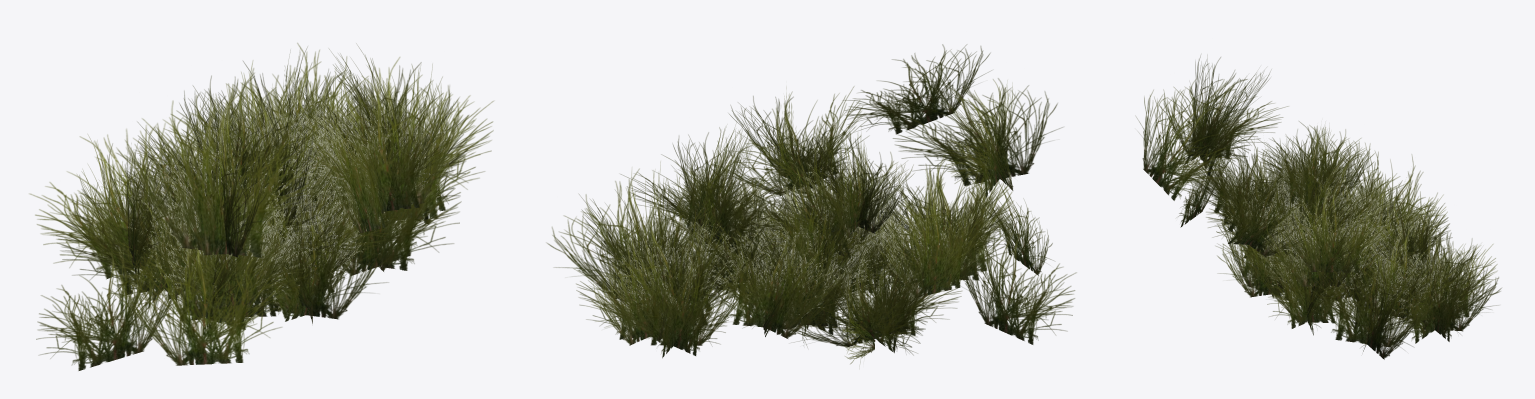
Rendered from Tufts_Green.glb.
3 renders of one model, left to right at view 1: azimuth 30°, elevation 25°; view 2: azimuth 150°, elevation 25°; view 3: azimuth 270°, elevation 25°, orthographic. The views are drawn at different scales.
Parts seen in each view (by area): view 1: Tuft_6, Tuft_2, Tuft_4, Tuft_7, Tuft_0, Tuft_5, Tuft_1, Tuft_3; view 2: Tuft_6, Tuft_2, Tuft_3, Tuft_5, Tuft_4, Tuft_1, Tuft_0, Tuft_7; view 3: Tuft_6, Tuft_2, Tuft_3, Tuft_0, Tuft_1, Tuft_5, Tuft_4, Tuft_7.
Part boxes in pixels (left/top/right/bottom): Tuft_6: left=117, top=43, right=480, bottom=257; Tuft_2: left=29, top=76, right=468, bottom=279; Tuft_4: left=36, top=94, right=461, bottom=370; Tuft_7: left=114, top=91, right=390, bottom=365; Tuft_0: left=150, top=71, right=366, bottom=318; Tuft_5: left=51, top=46, right=460, bottom=307; Tuft_1: left=126, top=63, right=394, bottom=329; Tuft_3: left=116, top=62, right=493, bottom=312; Tuft_6: left=580, top=78, right=1062, bottom=338; Tuft_2: left=663, top=44, right=991, bottom=363; Tuft_3: left=547, top=162, right=1006, bottom=345; Tuft_5: left=665, top=127, right=965, bottom=355; Tuft_4: left=664, top=168, right=1076, bottom=344; Tuft_1: left=574, top=155, right=1016, bottom=345; Tuft_0: left=615, top=127, right=920, bottom=308; Tuft_7: left=623, top=176, right=1053, bottom=358; Tuft_6: left=1159, top=56, right=1500, bottom=329; Tuft_2: left=1136, top=90, right=1443, bottom=309; Tuft_3: left=1192, top=140, right=1448, bottom=359; Tuft_0: left=1216, top=125, right=1468, bottom=320; Tuft_1: left=1186, top=121, right=1501, bottom=343; Tuft_5: left=1260, top=154, right=1399, bottom=286; Tuft_4: left=1242, top=149, right=1452, bottom=335; Tuft_7: left=1178, top=149, right=1498, bottom=321.
Bounding box in the file's own units: 6.92 × 3.84 × 6.39.
Materials: 1 (1 with a texture image).
